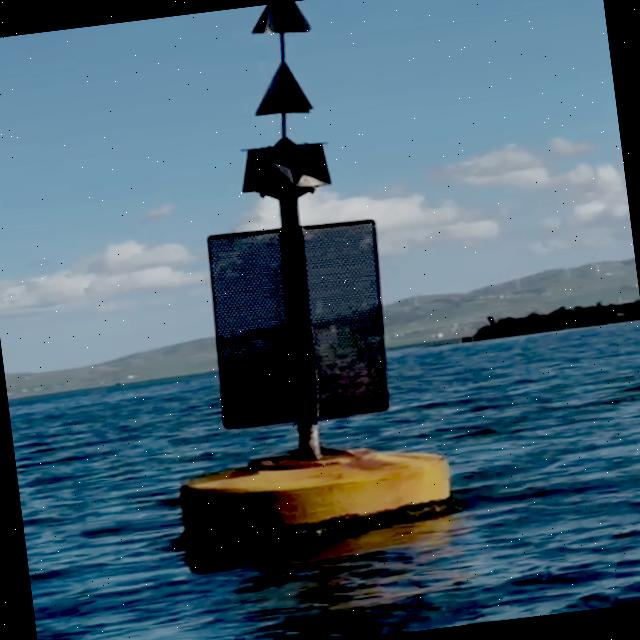marque: (122, 1, 469, 559)
